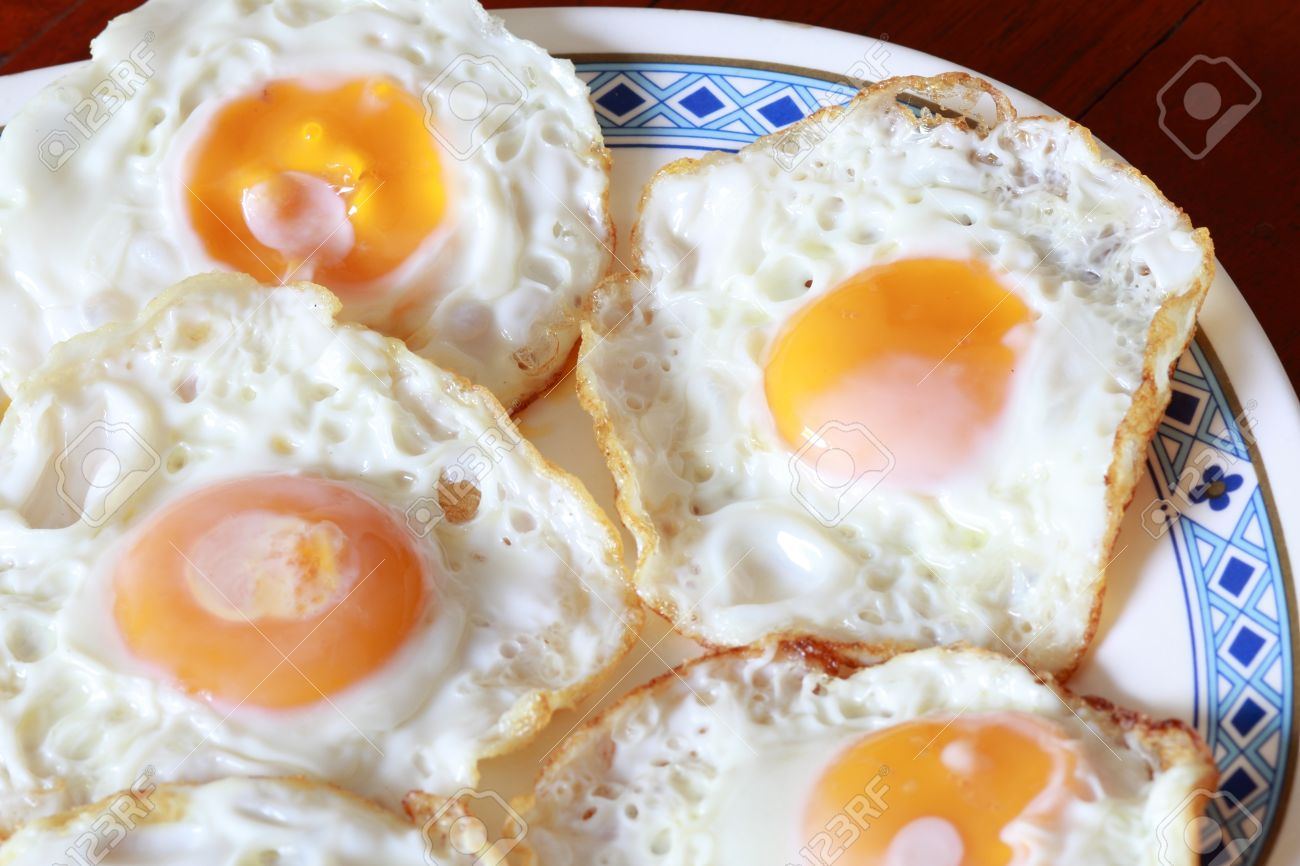fried_eggs: (596, 77, 1203, 666), (1, 275, 636, 777), (1, 1, 608, 398), (514, 636, 1238, 866), (1, 775, 544, 866)
